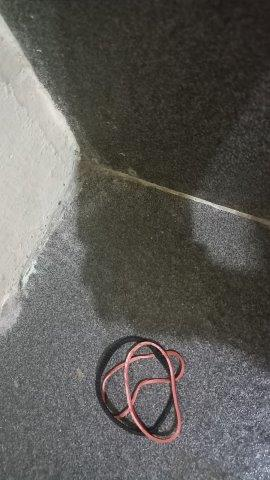karet: (94, 335, 187, 444)
